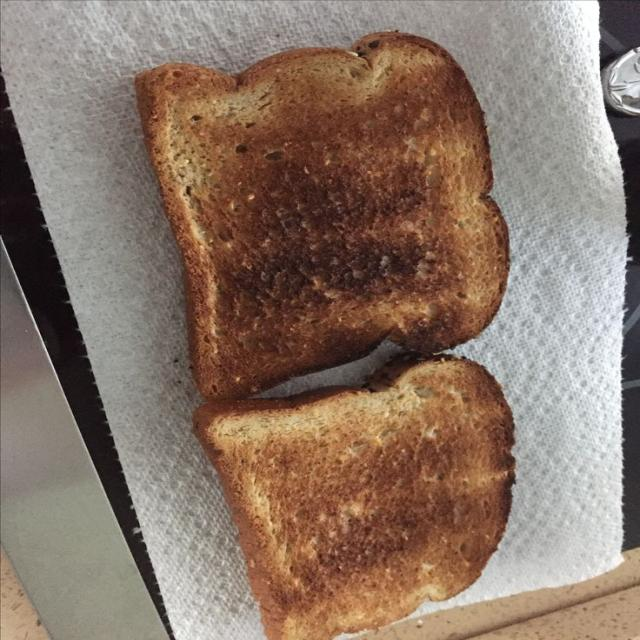toast bread: (136, 32, 508, 398), (194, 357, 513, 639)
